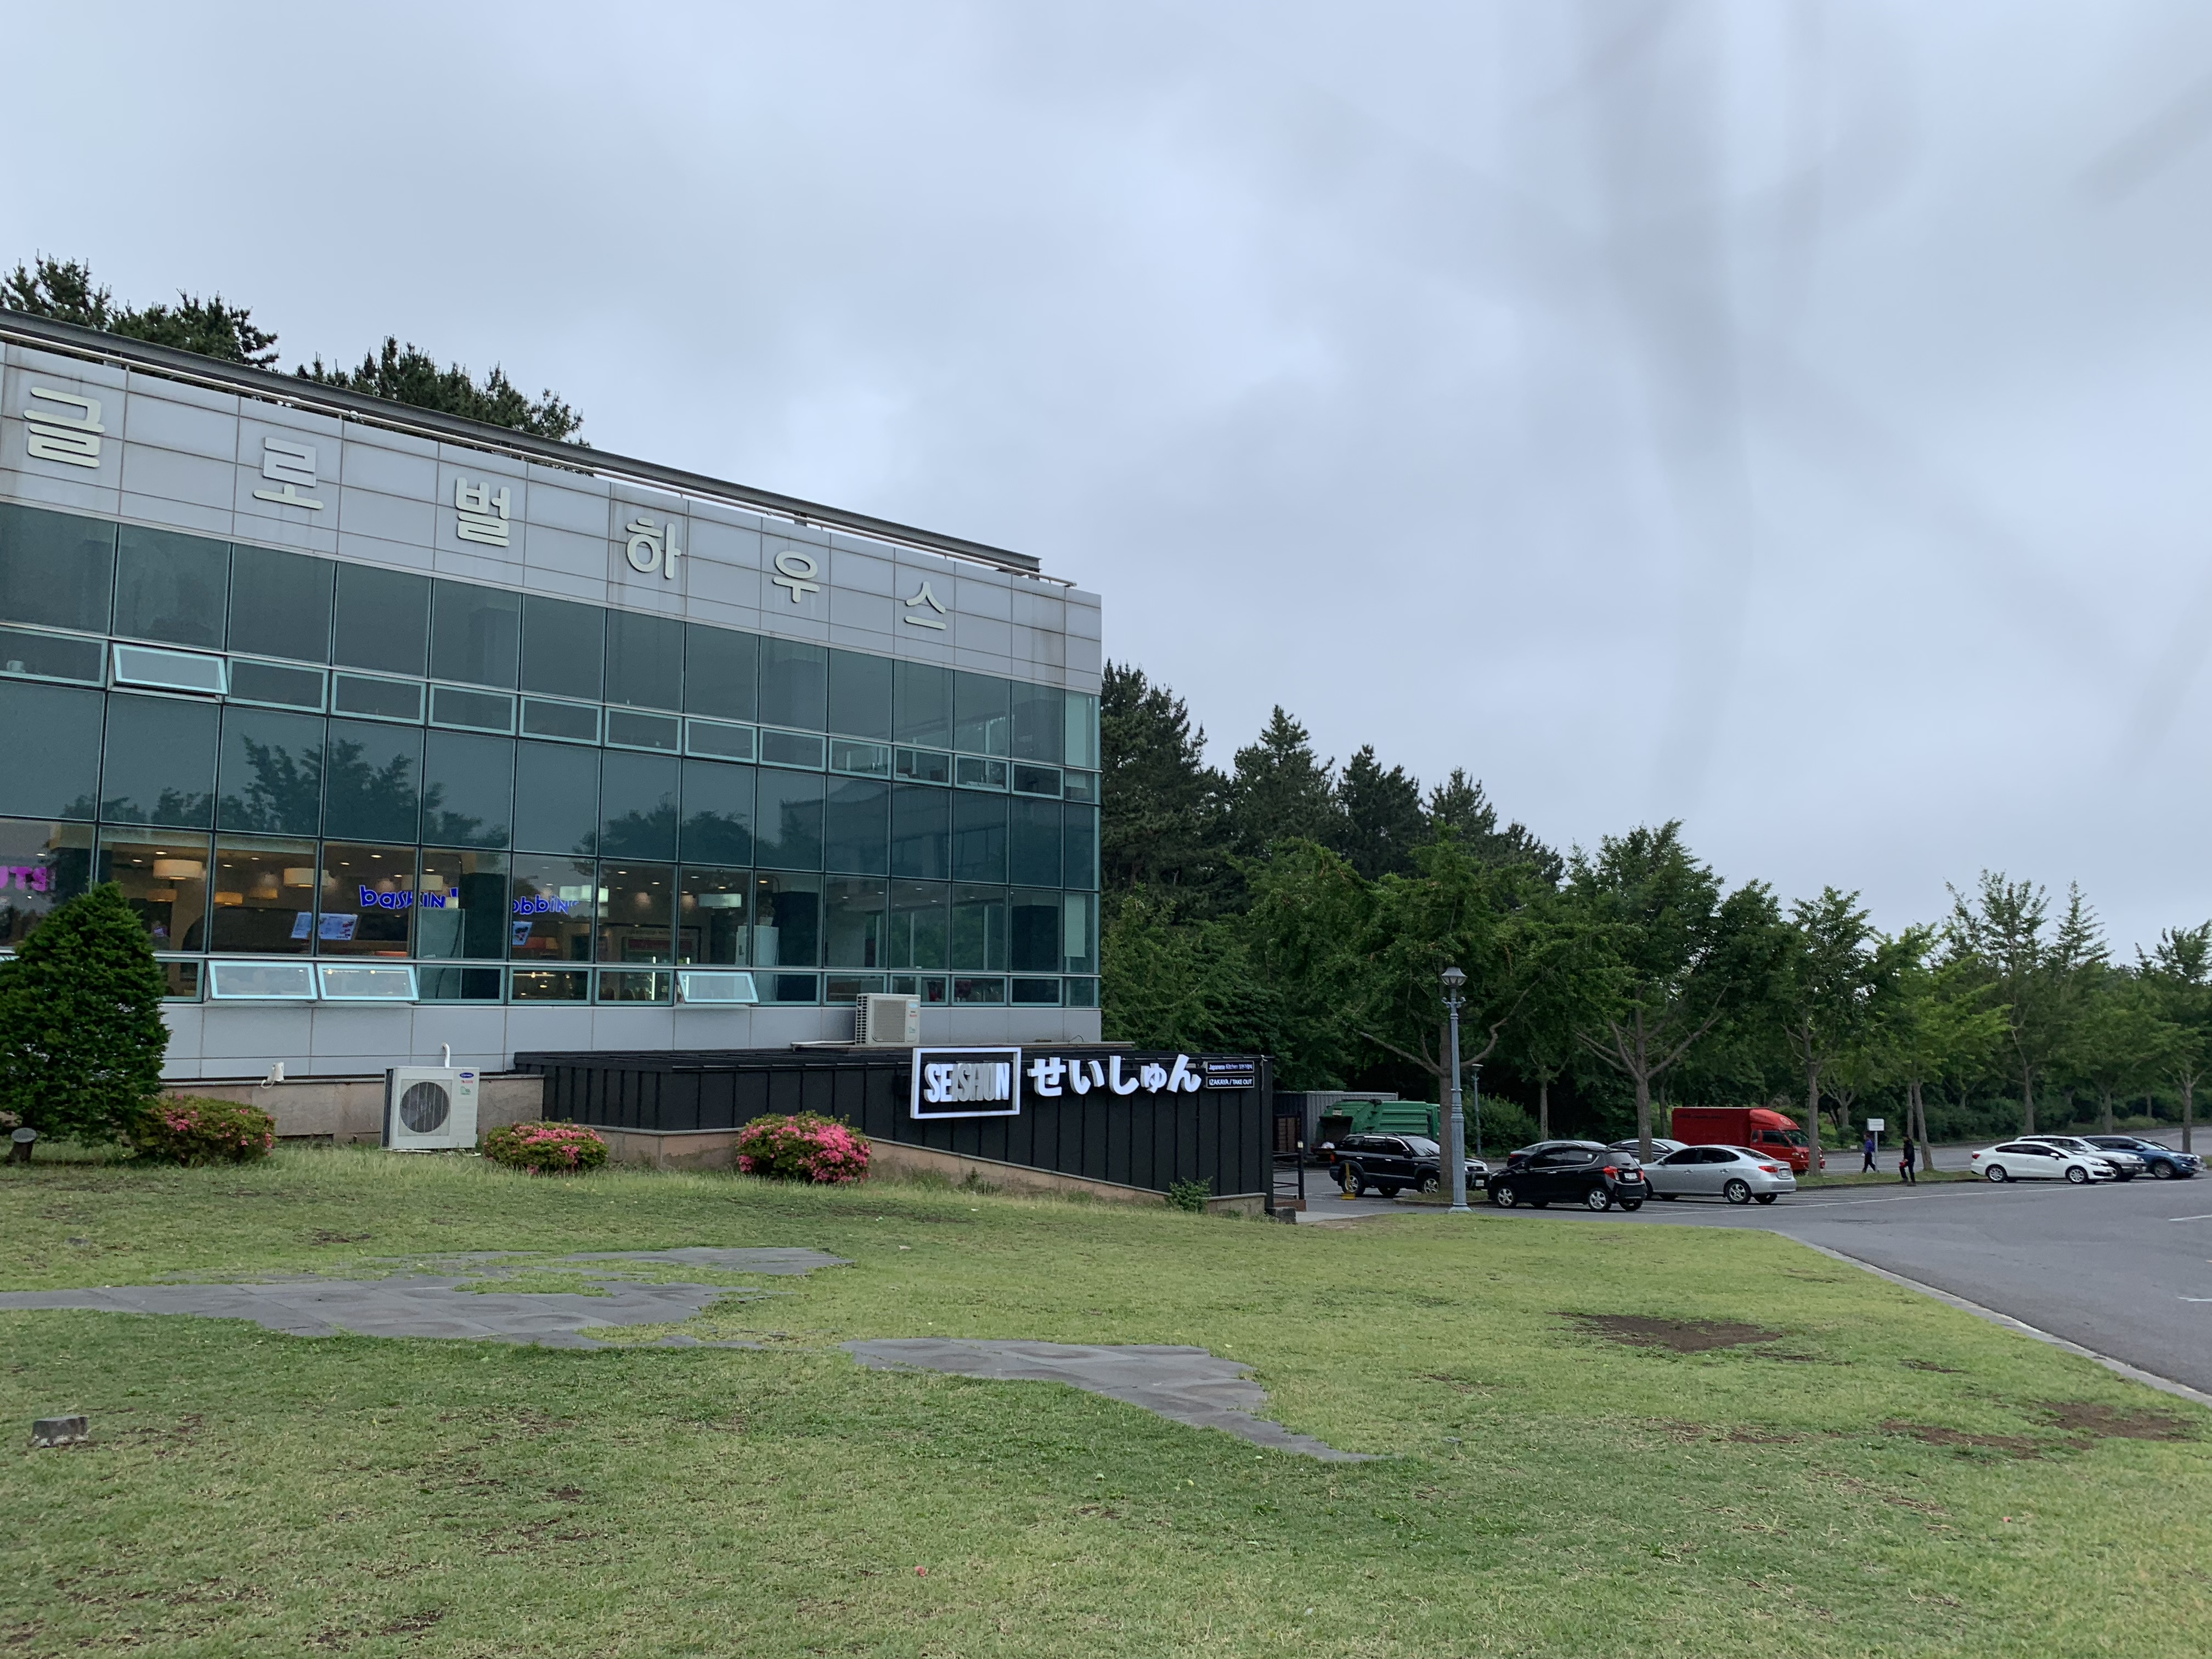Global House: (12, 281, 1287, 1239)
